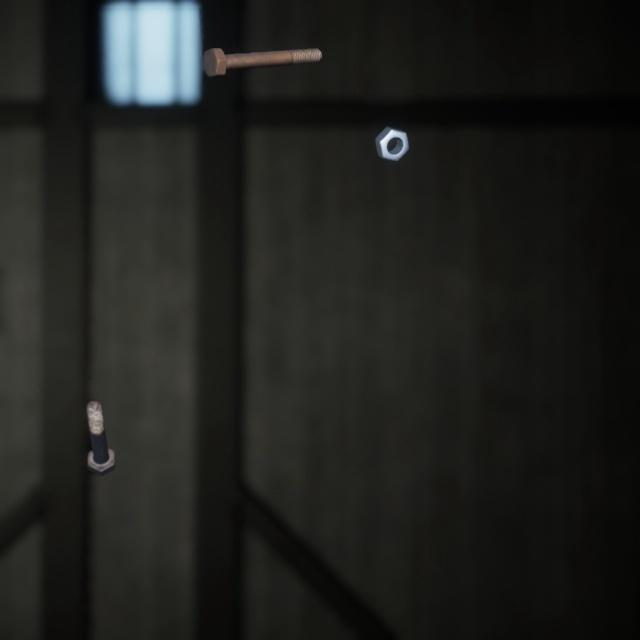bolt: (198, 32, 326, 71), (82, 375, 120, 460)
nut: (370, 110, 413, 153)
